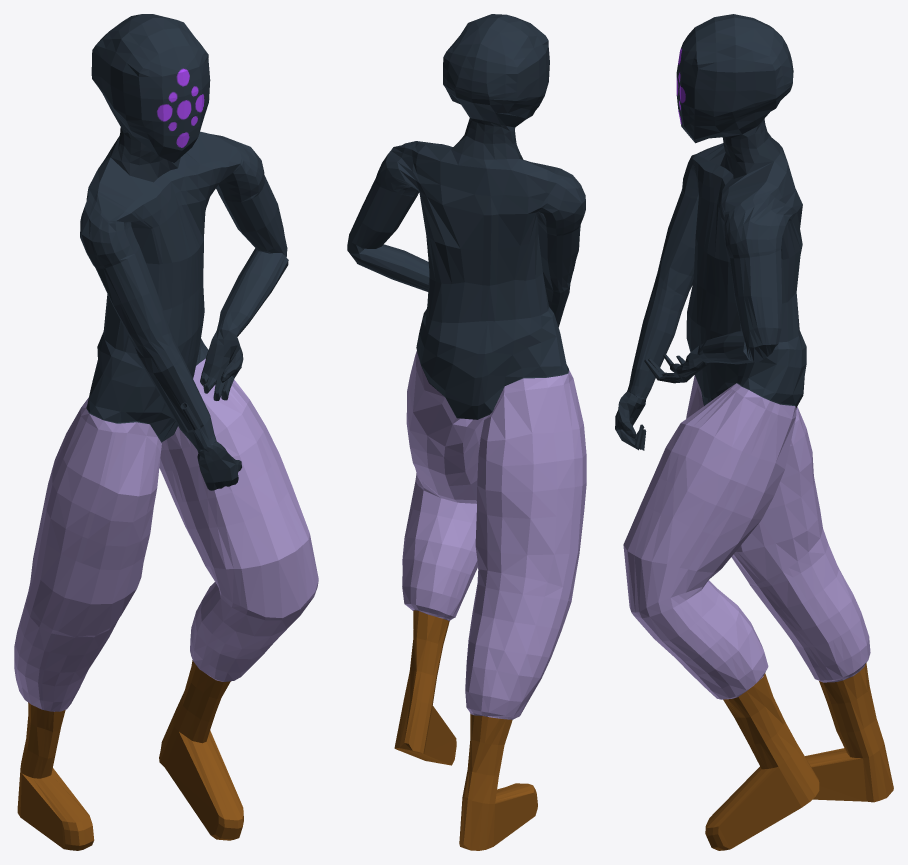
File: Oracle_Run_000022.obj
3 views of the same model, side by side, from view 1: azimuth 30°, elevation 25°; view 2: azimuth 150°, elevation 25°; view 3: azimuth 270°, elevation 25° (orthographic). The views are drawn at different scales.
Parts seen in each view (by area): view 1: Cube; view 2: Cube; view 3: Cube.
Part boxes in pixels (<box>): Cube: <box>14,14,318,850</box>; Cube: <box>347,14,586,850</box>; Cube: <box>615,14,893,850</box>.
Size of the model in its own units: 1.18 by 3.83 by 1.21.
